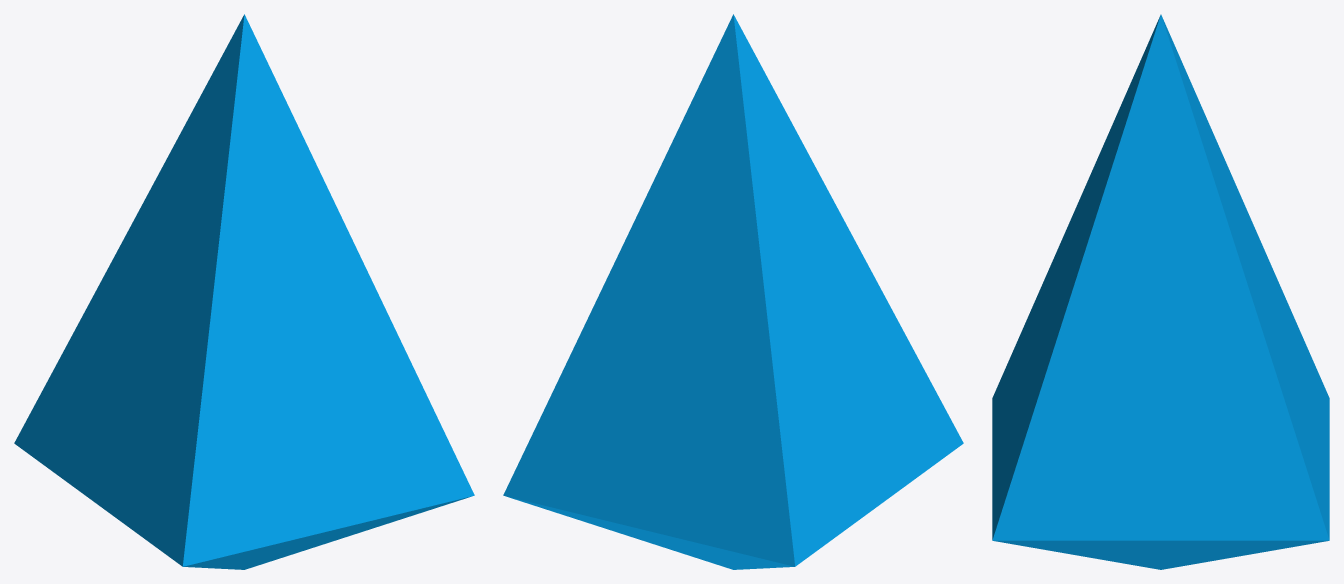
File: SkillGem.glb
3 renders of one model, left to right at view 1: azimuth 30°, elevation 25°; view 2: azimuth 150°, elevation 25°; view 3: azimuth 270°, elevation 25°, orthographic.
Visible parts, largest first — view 1: Gem; view 2: Gem; view 3: Gem.
Boxes of the visible parts, x1=… form: Gem: x1=14, y1=14, x2=474, y2=569; Gem: x1=503, y1=14, x2=963, y2=569; Gem: x1=992, y1=14, x2=1329, y2=569.
Size of the model in its own units: 1.24 by 2.26 by 1.24.
